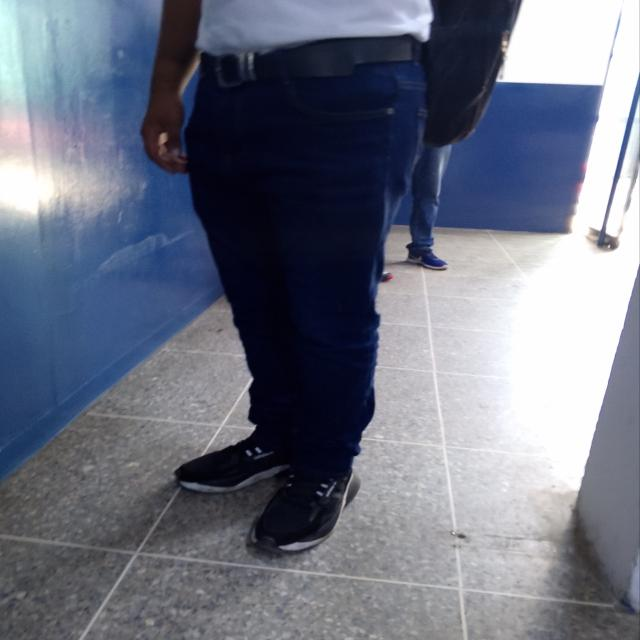pantalon_oscuro: (185, 60, 430, 473), (369, 116, 455, 257)
